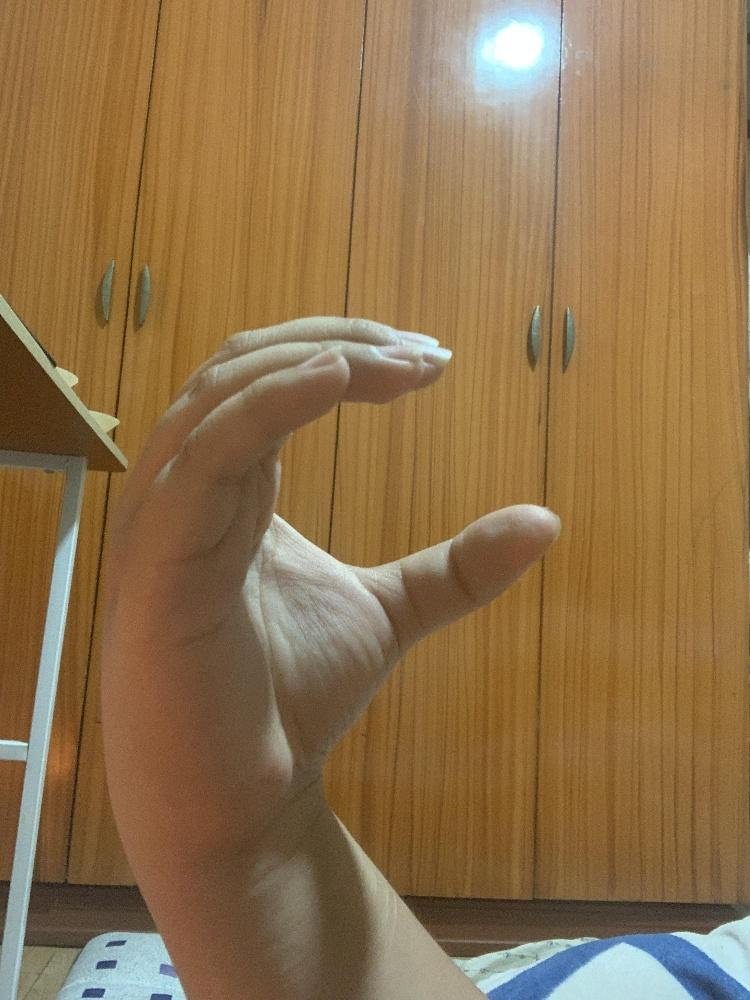c: (96, 313, 566, 812)
